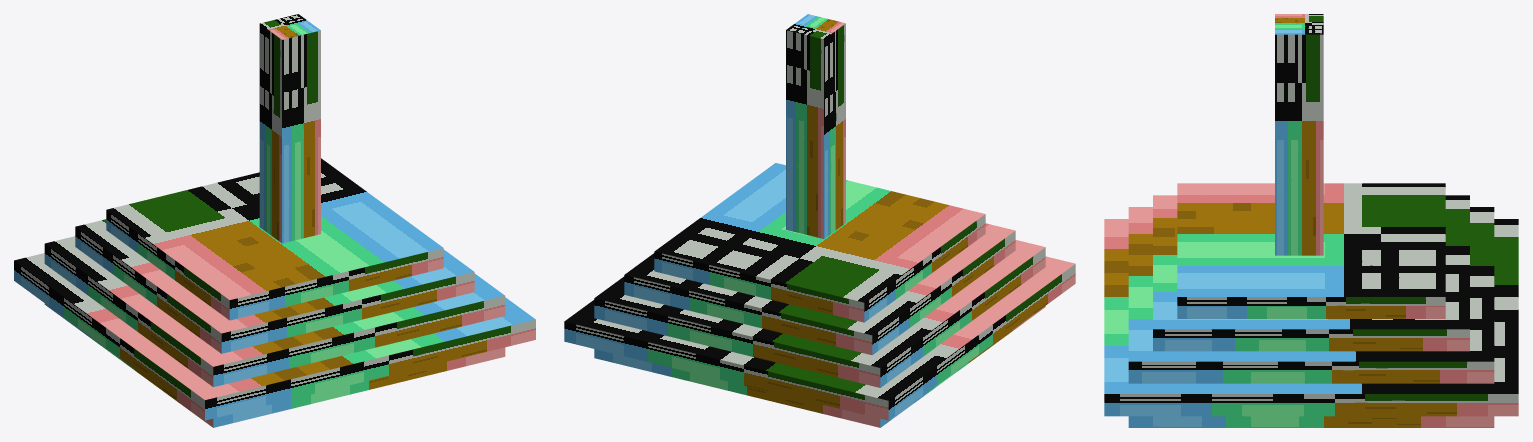
Rendered from lampthing.obj.
3 renders of one model, left to right at view 1: azimuth 30°, elevation 25°; view 2: azimuth 150°, elevation 25°; view 3: azimuth 270°, elevation 25°, orthographic. The views are drawn at different scales.
Visible parts, largest first — view 1: cube; view 2: cube; view 3: cube.
Part boxes in pixels (x1,y1,x2,y2): cube: (14, 14, 535, 427); cube: (564, 14, 1075, 427); cube: (1104, 14, 1518, 427).
Size of the model in its own units: 1.06 by 0.9375 by 1.06.
